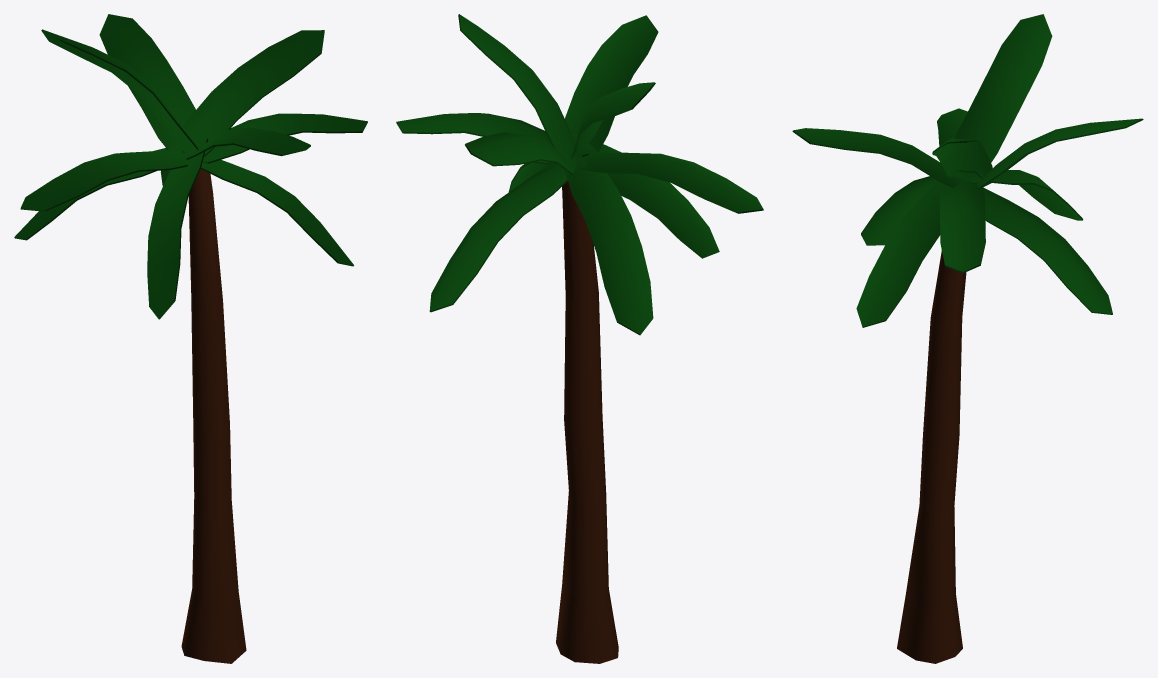
The model's file is Tree 9.FBX.
3 renders of one model, left to right at view 1: azimuth 30°, elevation 25°; view 2: azimuth 150°, elevation 25°; view 3: azimuth 270°, elevation 25°, orthographic. The views are drawn at different scales.
Parts seen in each view (by area): view 1: Cylinder001; view 2: Cylinder001; view 3: Cylinder001.
Part boxes in pixels (x1,y1,x2,y2): Cylinder001: [14, 14, 367, 663]; Cylinder001: [396, 14, 763, 663]; Cylinder001: [792, 14, 1143, 663].
Size of the model in its own units: 184 by 306 by 167.
